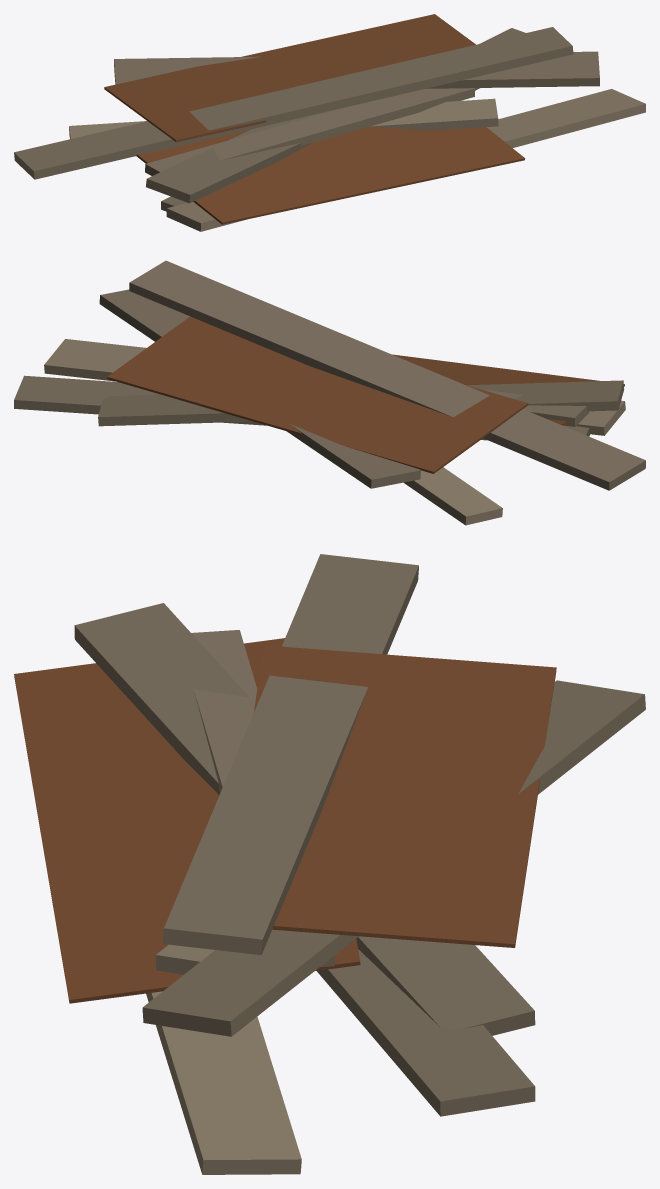
The model's file is boardpile.glb.
3 renders of one model, top to bottom at view 1: azimuth 30°, elevation 25°; view 2: azimuth 150°, elevation 25°; view 3: azimuth 270°, elevation 25°, orthographic. The views are drawn at different scales.
Parts seen in each view (by area): view 1: boardpile; view 2: boardpile; view 3: boardpile.
Part boxes in pixels (bbox=[...]): boardpile: bbox=[14, 14, 645, 231]; boardpile: bbox=[14, 260, 645, 525]; boardpile: bbox=[14, 554, 645, 1174].
Bounding box in the file's own units: 2.9 × 0.4677 × 1.51.
